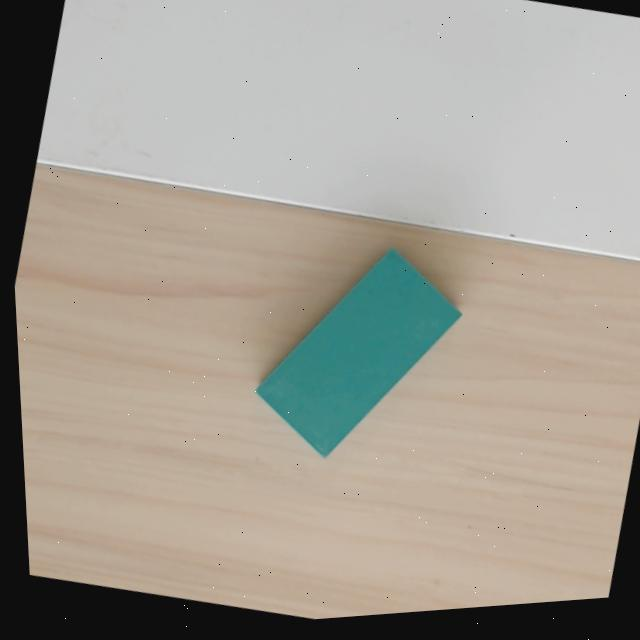Balok-Hijau-1005025: (252, 246, 463, 460)
